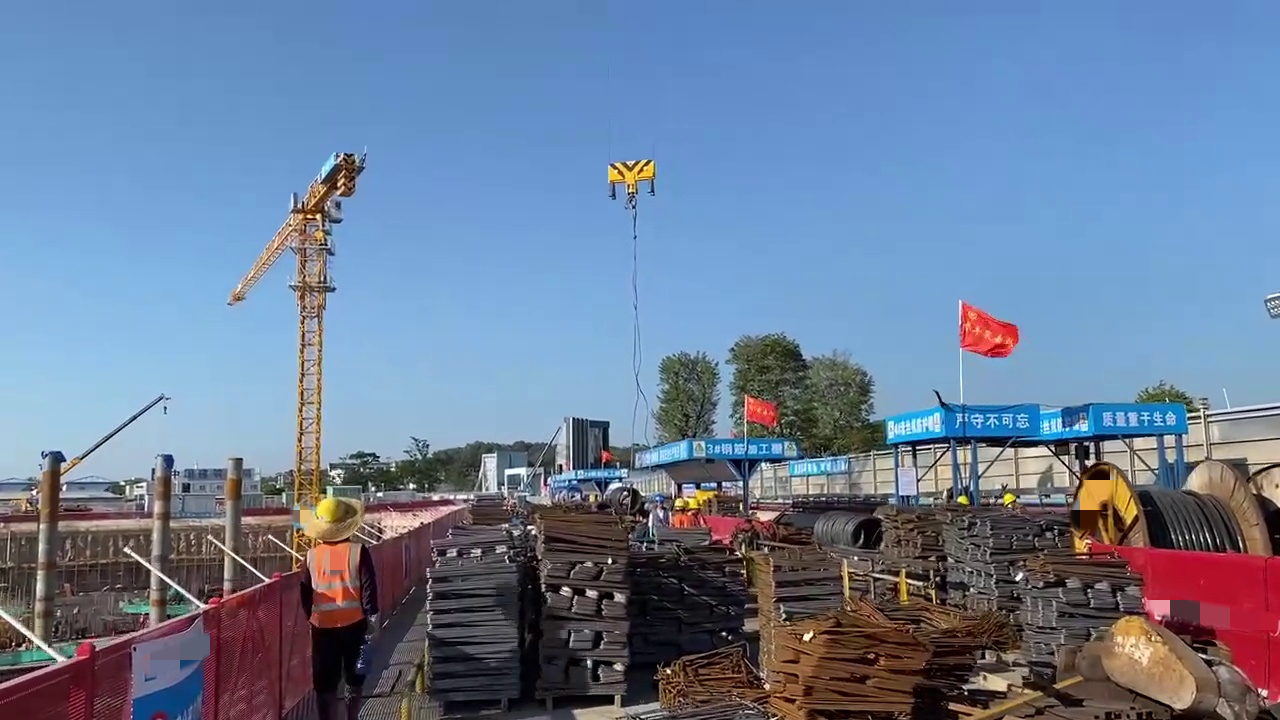fence: (3, 565, 293, 715), (378, 519, 428, 615)
helmet: (315, 498, 351, 525)
hook: (609, 157, 655, 204)
person: (296, 492, 381, 720), (688, 496, 706, 538), (672, 497, 686, 533)
rebar: (777, 607, 970, 715), (533, 517, 640, 696), (427, 530, 530, 715), (1004, 546, 1093, 666), (941, 500, 1019, 623), (664, 640, 769, 720)
slogan: (945, 404, 1040, 433), (1093, 405, 1186, 433)
vest: (307, 544, 366, 633)
